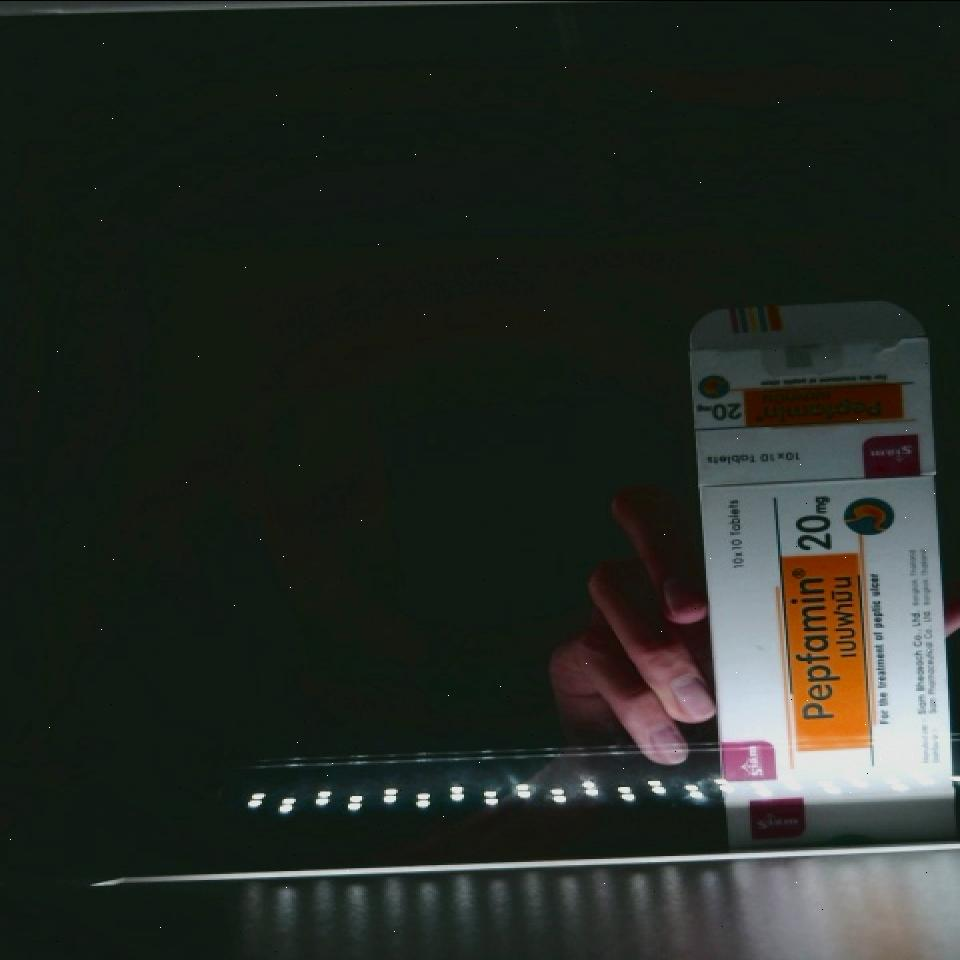medicine_box: (691, 295, 959, 854)
medicine_label_obb: (780, 560, 872, 746)
